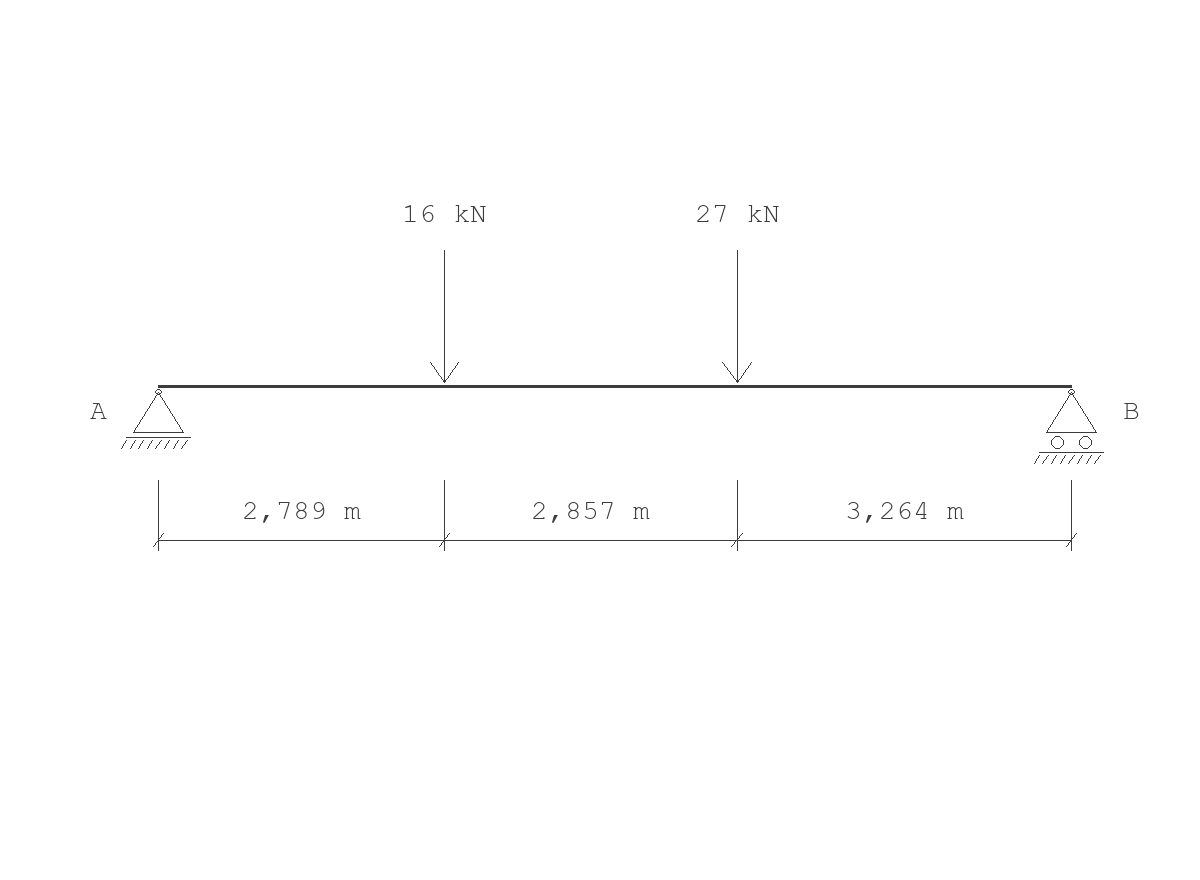pin_support: (121, 389, 191, 449)
point_load: (722, 250, 752, 383), (430, 250, 459, 383)
roller_support: (1034, 389, 1104, 464)
